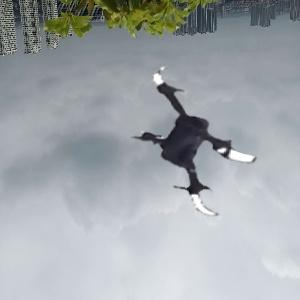drone: (120, 61, 282, 223)
